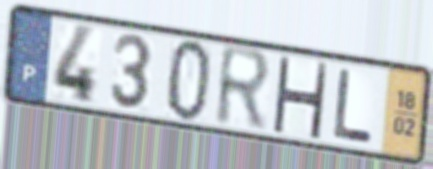0: (164, 38, 214, 125)
3: (108, 32, 157, 113)
4: (50, 23, 101, 106)
H: (269, 53, 330, 142)
L: (331, 66, 377, 145)
R: (212, 42, 275, 136)
